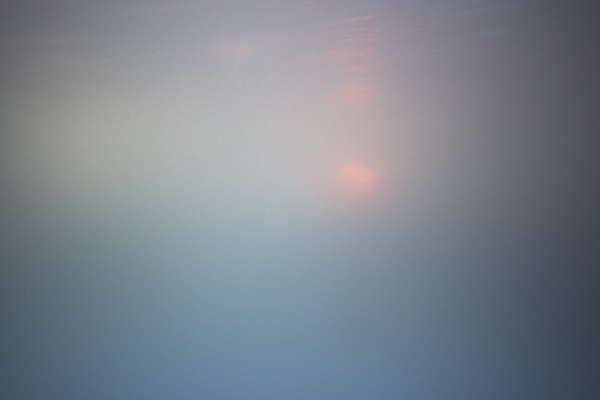buoy: (206, 166, 362, 358)
